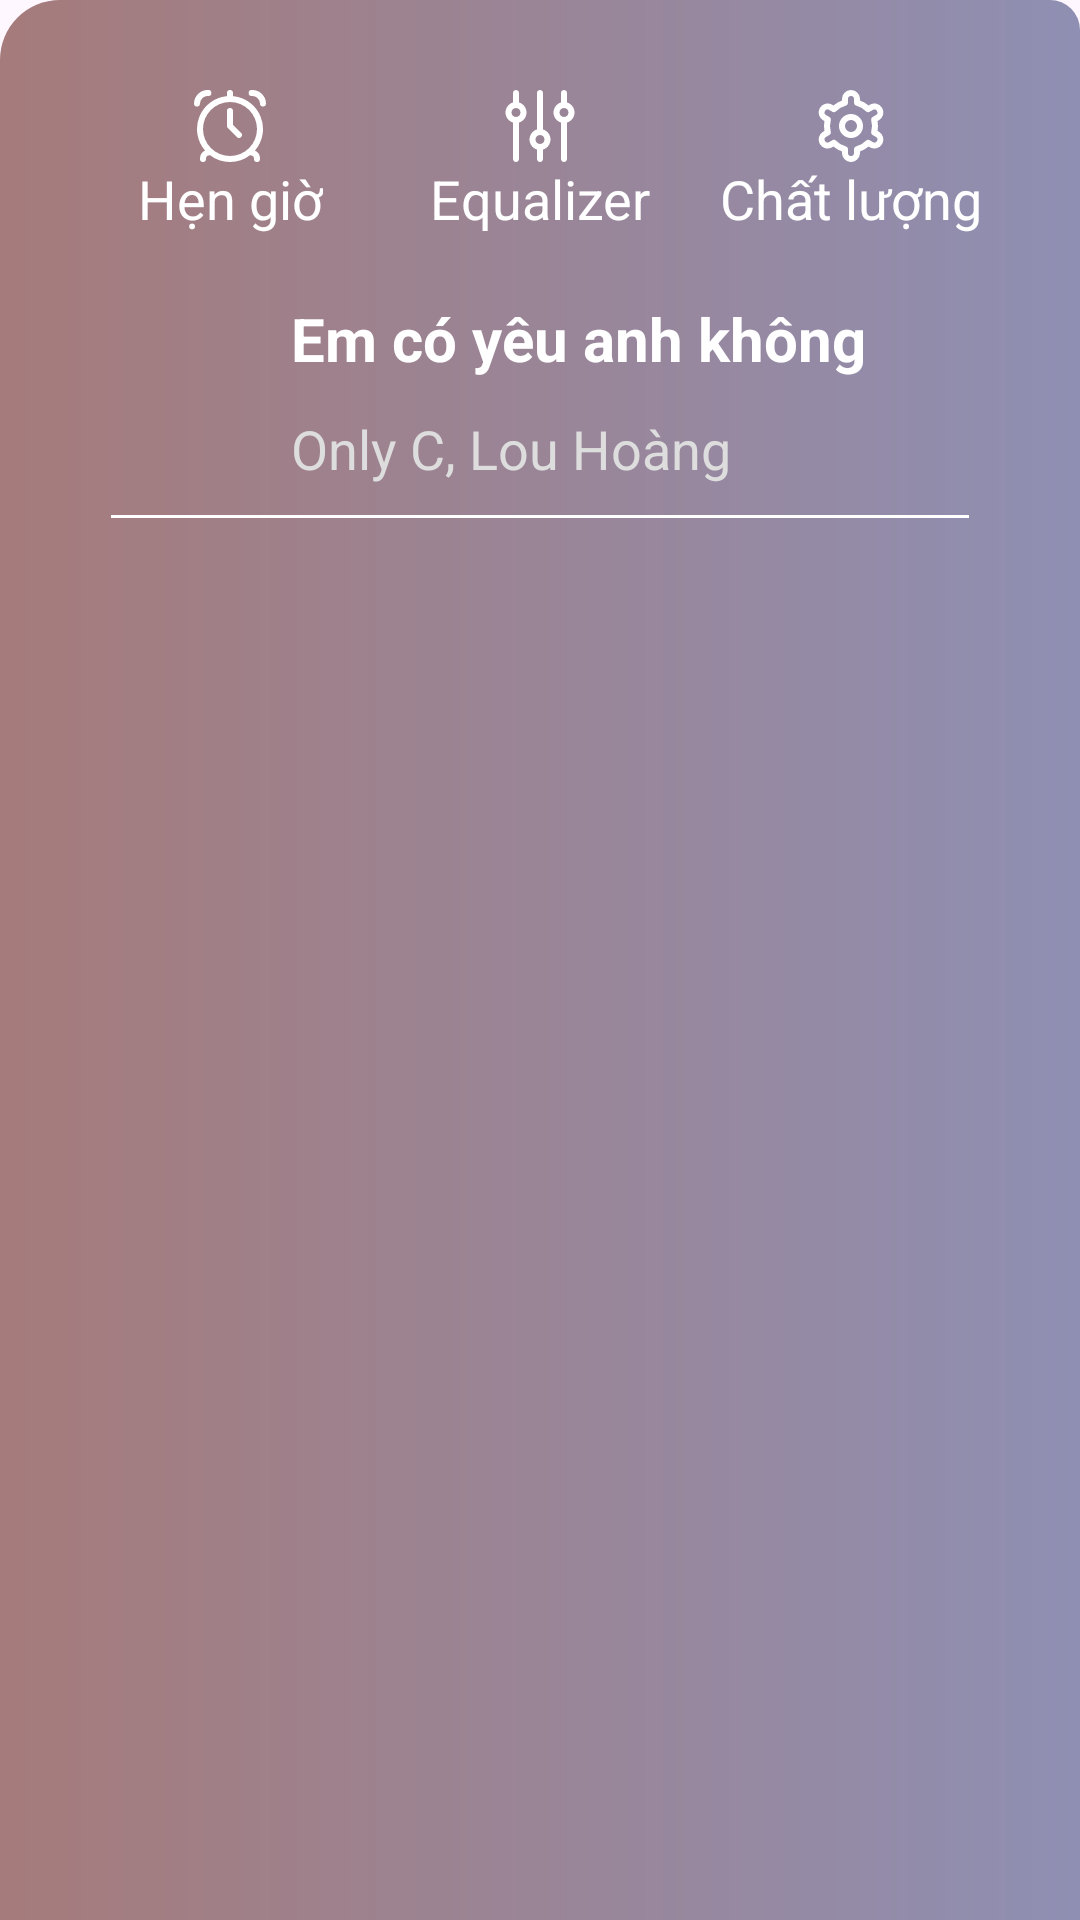

Screen size 1080*1920. Icon name, then its center in pixels as point (x, y):
clock: point (230, 126)
setting: point (851, 126)
